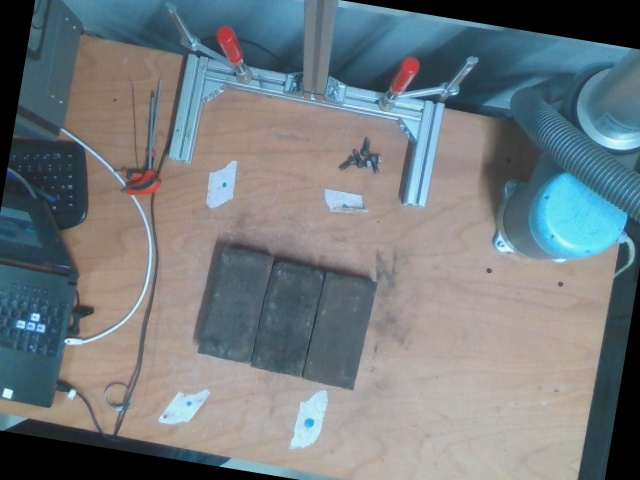brick: (248, 259, 325, 378), (196, 246, 272, 365), (302, 272, 377, 391)
